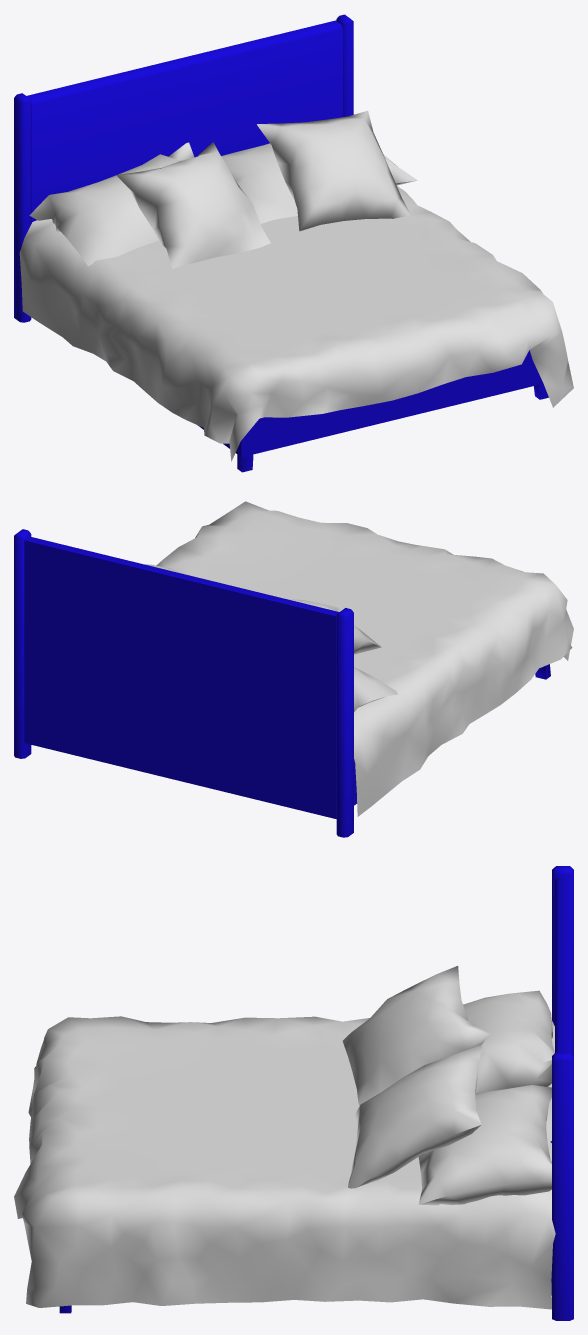
Rendered from bed.fbx.
3 views of the same model, one above another, from view 1: azimuth 30°, elevation 25°; view 2: azimuth 150°, elevation 25°; view 3: azimuth 270°, elevation 25° (orthographic). The views are drawn at different scales.
Parts seen in each view (by area): view 1: Dinner Table.009; view 2: Dinner Table.009; view 3: Dinner Table.009.
Part boxes in pixels (left/top/right/bottom): Dinner Table.009: left=14, top=14, right=573, bottom=472; Dinner Table.009: left=14, top=501, right=573, bottom=837; Dinner Table.009: left=14, top=866, right=573, bottom=1320.
Bounding box in the file's own units: 209 × 127 × 244.
